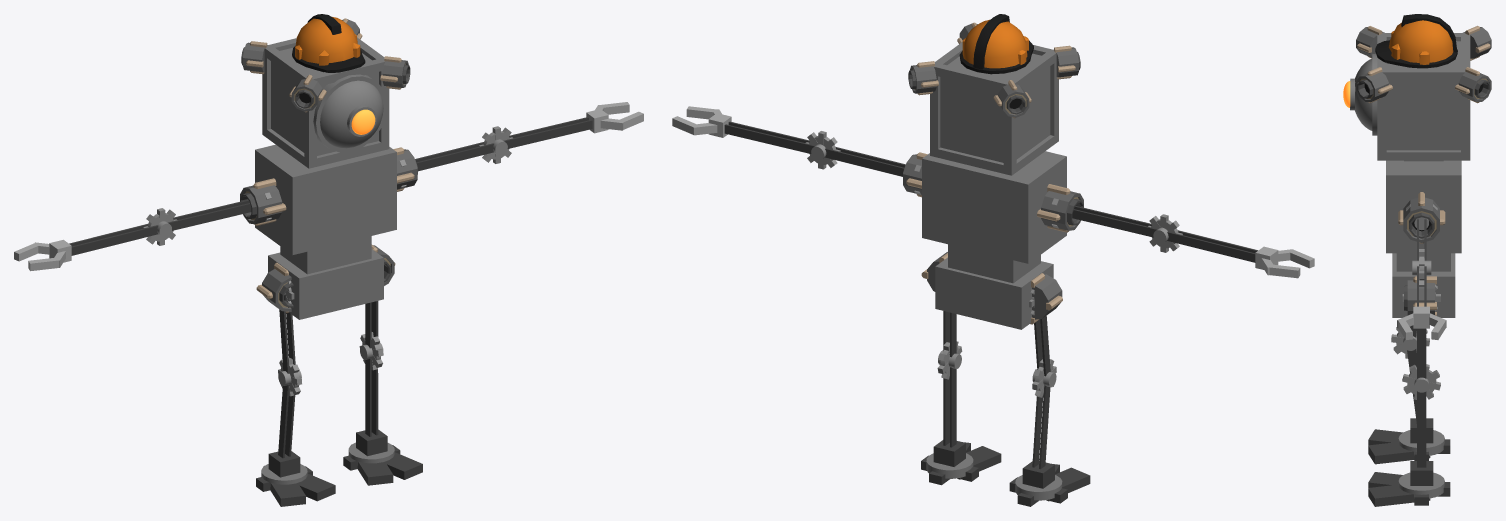
Rendered from WorkshopBotBase 1.fbx.
3 renders of one model, left to right at view 1: azimuth 30°, elevation 25°; view 2: azimuth 150°, elevation 25°; view 3: azimuth 270°, elevation 25°, orthographic.
Parts seen in each view (by area): view 1: Cube__1_, Cube, TBC_Hard_hat, Sphere, Cube__12_, Cube__2_, AttatchPointModel_7, Cylinder__1_, AttatchPointModel_5, Cube__1__22, AttatchPointModel_4, Cube_19 (+7 smaller); view 2: Cube__1_, Cube__12_, Cube, TBC_Hard_hat, Cube__2_, AttatchPointModel_7, AttatchPointModel_5, Cube__4__4, AttatchPointModel_6, Cube__1__19, Cube__6_, Cube_22 (+6 smaller); view 3: Cube__12_, Cube__1_, TBC_Hard_hat, Cube, AttatchPointModel_1, Cube__1__5, AttatchPointModel, AttatchPointModel_2, AttatchPointModel_3, Cube__3__5, Cube__4_, Cube__2_ (+22 smaller).
Part boxes in pixels (left/top/right/bottom): Cube__1_: left=255, top=144, right=396, bottom=254; Cube: left=268, top=249, right=383, bottom=319; TBC_Hard_hat: left=292, top=14, right=365, bottom=72; Sphere: left=320, top=80, right=383, bottom=148; Cube__12_: left=271, top=48, right=378, bottom=155; Cube__2_: left=280, top=236, right=371, bottom=274; AttatchPointModel_7: left=240, top=178, right=286, bottom=225; Cylinder__1_: left=313, top=74, right=387, bottom=152; AttatchPointModel_5: left=256, top=262, right=293, bottom=313; Cube__1__22: left=71, top=225, right=158, bottom=255; AttatchPointModel_4: left=289, top=74, right=326, bottom=112; Cube_19: left=503, top=120, right=592, bottom=148; Cube__1_: left=922, top=151, right=1066, bottom=263; Cube__12_: left=940, top=53, right=1050, bottom=162; Cube: left=935, top=257, right=1053, bottom=329; TBC_Hard_hat: left=959, top=14, right=1033, bottom=74; Cube__2_: left=948, top=244, right=1040, bottom=283; AttatchPointModel_7: left=1037, top=184, right=1083, bottom=232; AttatchPointModel_5: left=1030, top=273, right=1062, bottom=324; Cube__4__4: left=934, top=63, right=1015, bottom=91; AttatchPointModel_6: left=993, top=80, right=1031, bottom=118; Cube__1__19: left=724, top=124, right=815, bottom=153; Cube__6_: left=930, top=147, right=1016, bottom=175; Cube_22: left=1167, top=231, right=1255, bottom=262; Cube__12_: left=1386, top=41, right=1460, bottom=150; Cube__1_: left=1386, top=160, right=1461, bottom=253; TBC_Hard_hat: left=1375, top=14, right=1457, bottom=68; Cube: left=1392, top=253, right=1455, bottom=317; AttatchPointModel_1: left=1398, top=192, right=1445, bottom=243; Cube__1__5: left=1382, top=68, right=1465, bottom=80; AttatchPointModel: left=1455, top=67, right=1491, bottom=103; AttatchPointModel_2: left=1356, top=67, right=1392, bottom=103; AttatchPointModel_3: left=1404, top=276, right=1436, bottom=315; Cube__3__5: left=1377, top=150, right=1470, bottom=160; Cube__4_: left=1368, top=442, right=1430, bottom=464; Cube__2_: left=1396, top=253, right=1450, bottom=271.
Size of the model in its own units: 764 by 542 by 160.
11 materials, 1 textured.
